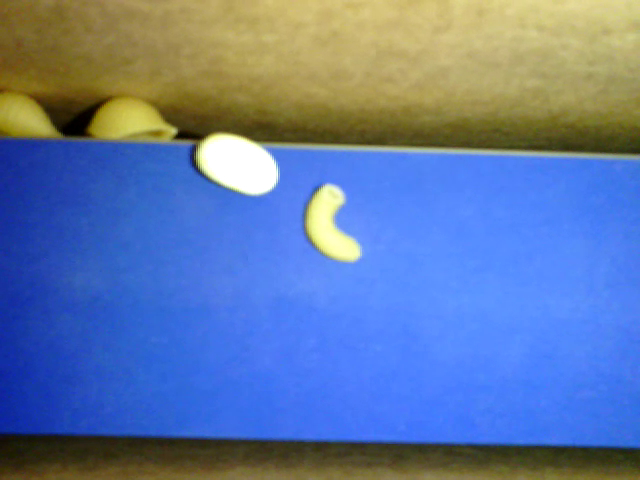elbow: (304, 180, 360, 264)
shell: (84, 93, 181, 143), (1, 87, 67, 141)
